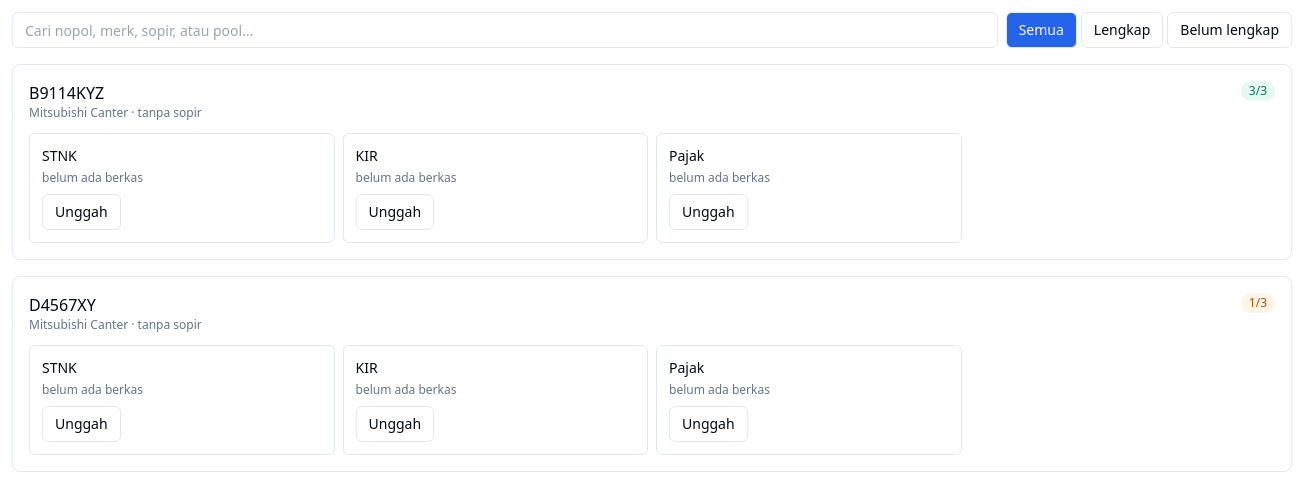
Test case: BerkasTab › filters to units with missing files
// click the 'Belum lengkap' filter
Step 1. Click the button "Belum lengkap" → {"x": 1230, "y": 30}, box [1167,12,1292,48]
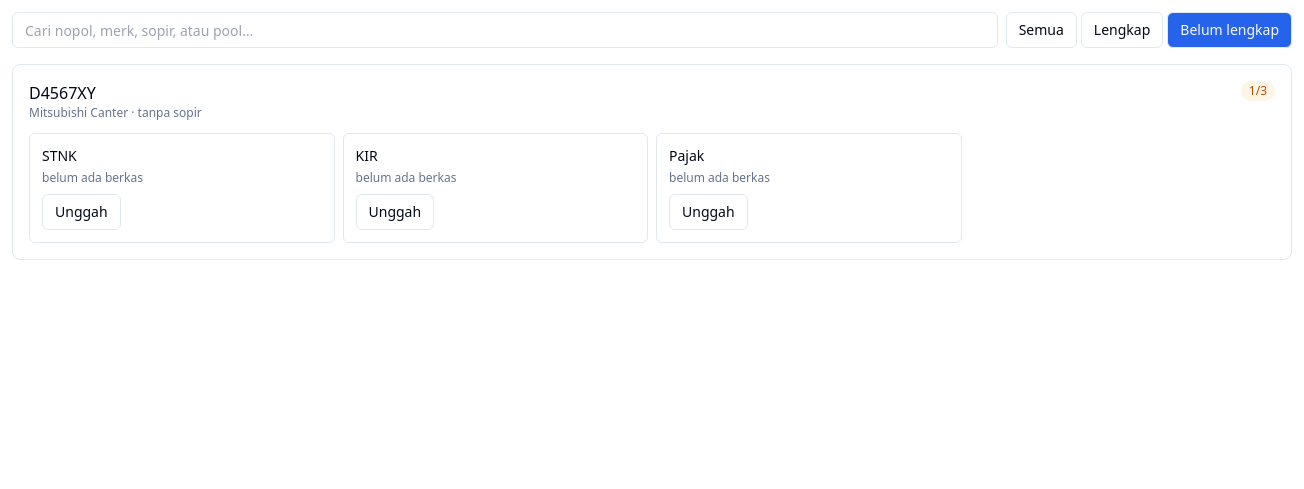
Expected: the text "D4567XY" is shown, [29,82,96,104]
Now the text "B9114KYZ" is gone
Step 2. Click the button "Lengkap" → {"x": 1122, "y": 30}, box [1081,12,1163,48]
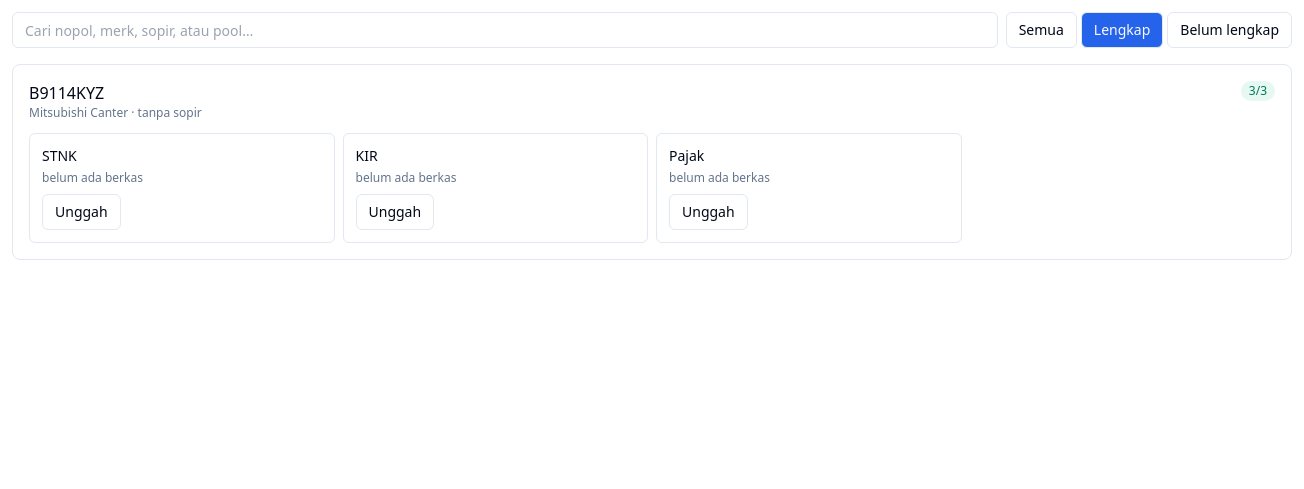
Now the text "B9114KYZ" is shown, box [29,82,104,104]
Now the text "D4567XY" is gone
